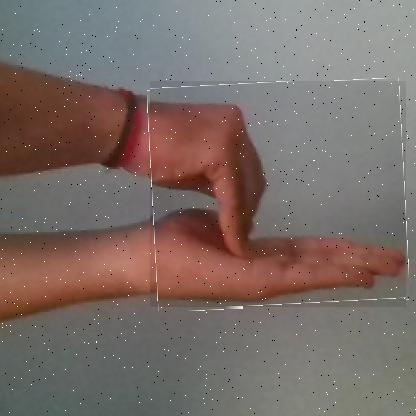Z: (150, 81, 407, 310)
